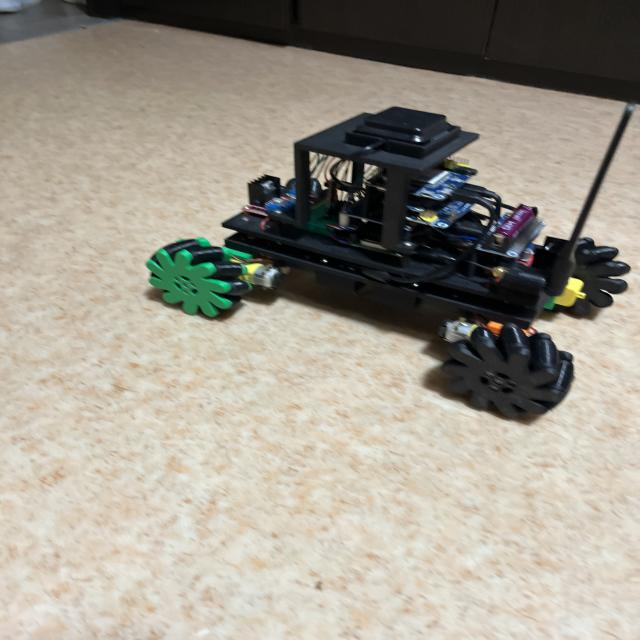robot: (146, 105, 634, 418)
